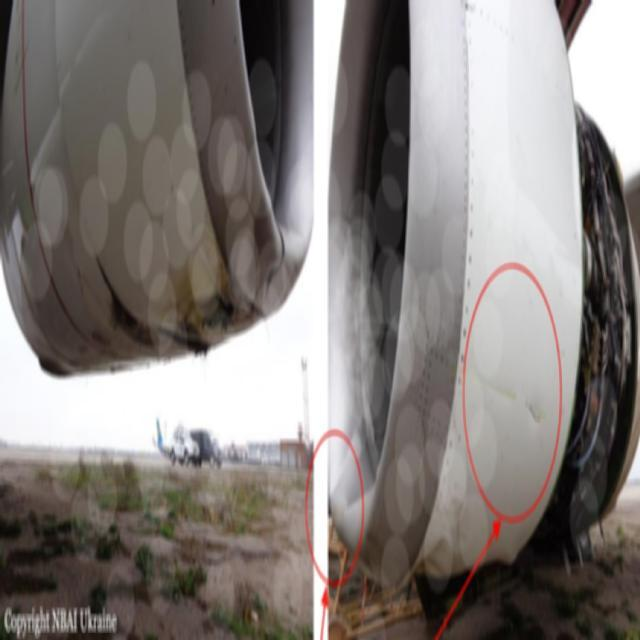crack: (522, 393, 544, 426)
dent: (391, 544, 454, 595), (243, 198, 272, 296)
